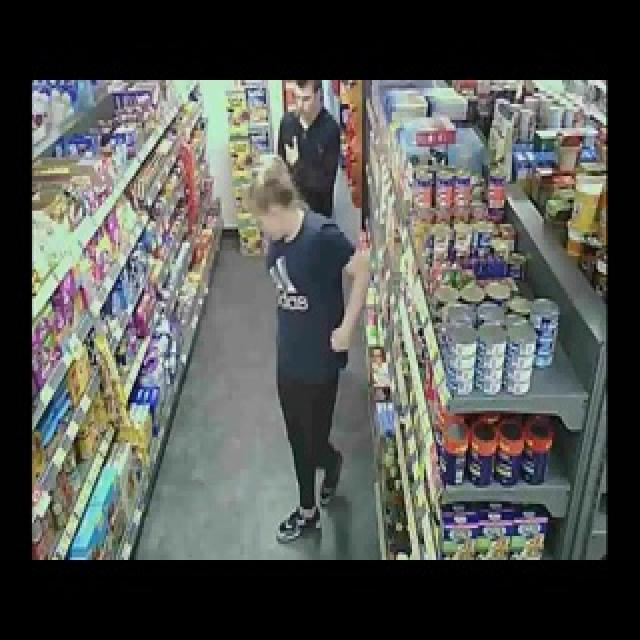shoplifting: (249, 150, 369, 542), (274, 81, 340, 212)
